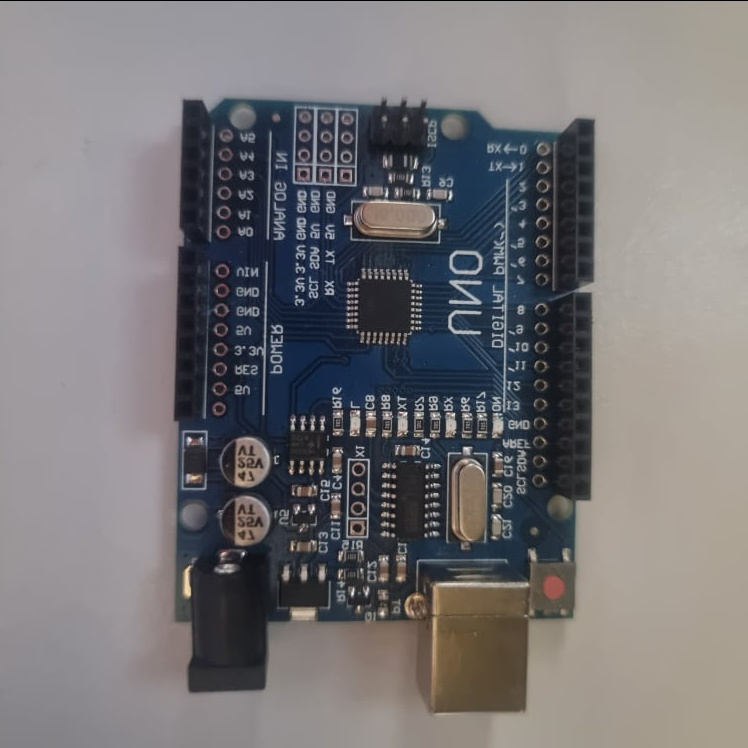UNO R3: (179, 91, 592, 714)
